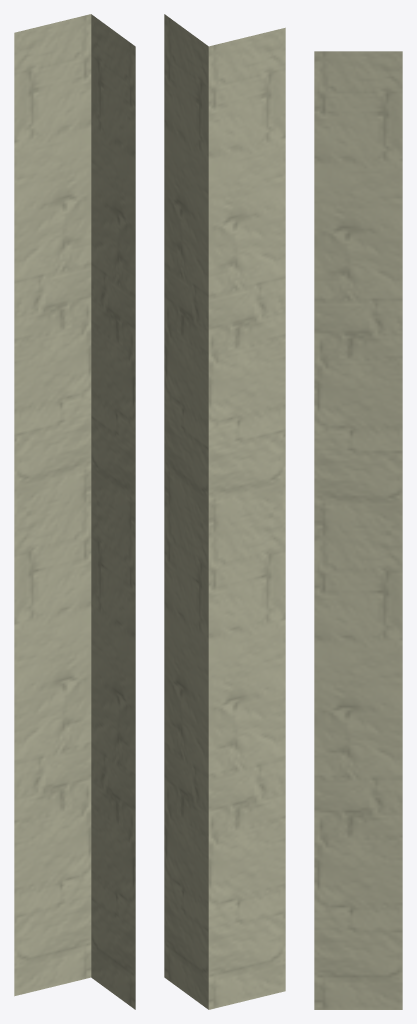
Rendered from corner.fbx.
3 views of the same model, side by side, from view 1: azimuth 30°, elevation 25°; view 2: azimuth 210°, elevation 25°; view 3: azimuth 270°, elevation 25° (orthographic).
Parts seen in each view (by area): view 1: corner; view 2: corner; view 3: corner.
Part boxes in pixels (x1,y1,x2,y2): corner: (14, 14, 135, 1009); corner: (164, 14, 285, 1009); corner: (314, 51, 402, 1009).
Bounding box in the file's own units: 1 × 12 × 1.
1 material, 1 textured.
